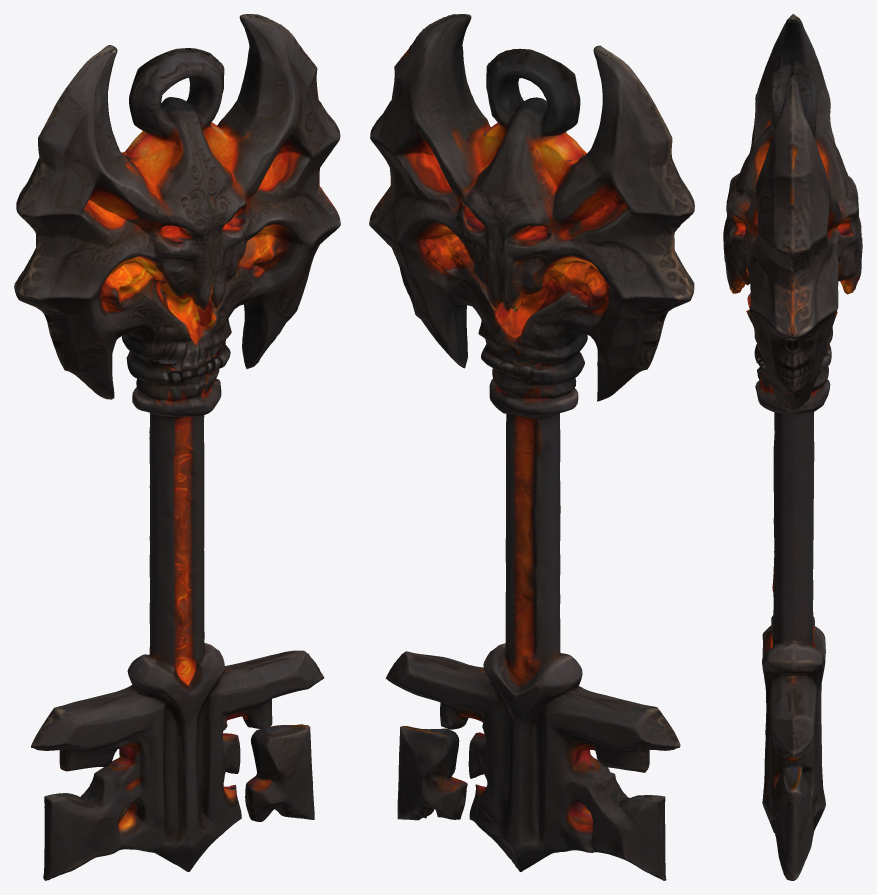
Rendered from Boss_Key.glb.
The picture shows the model from 3 angles, left to right: view 1: azimuth 30°, elevation 25°; view 2: azimuth 150°, elevation 25°; view 3: azimuth 270°, elevation 25°; orthographic projection. The views are drawn at different scales.
Size of the model in its own units: 0.8101 by 2 by 0.3215.
1 material, 1 textured.
